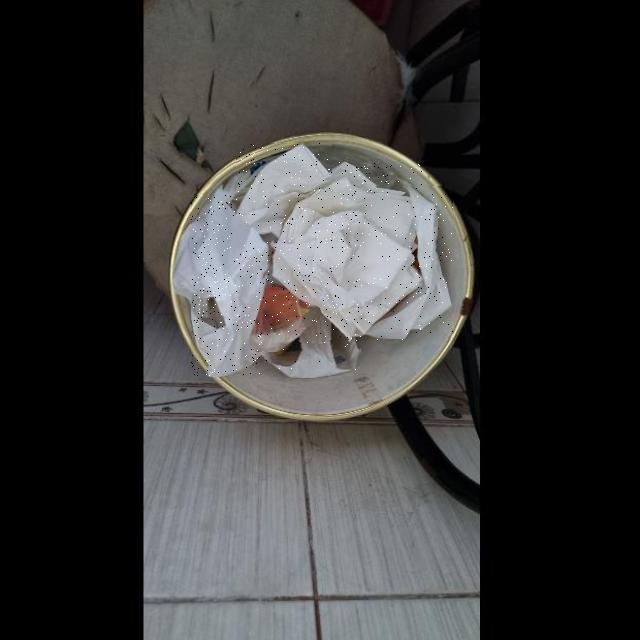paper: (271, 161, 423, 340), (191, 195, 269, 375), (366, 186, 453, 338), (236, 143, 332, 238), (263, 306, 360, 378)
